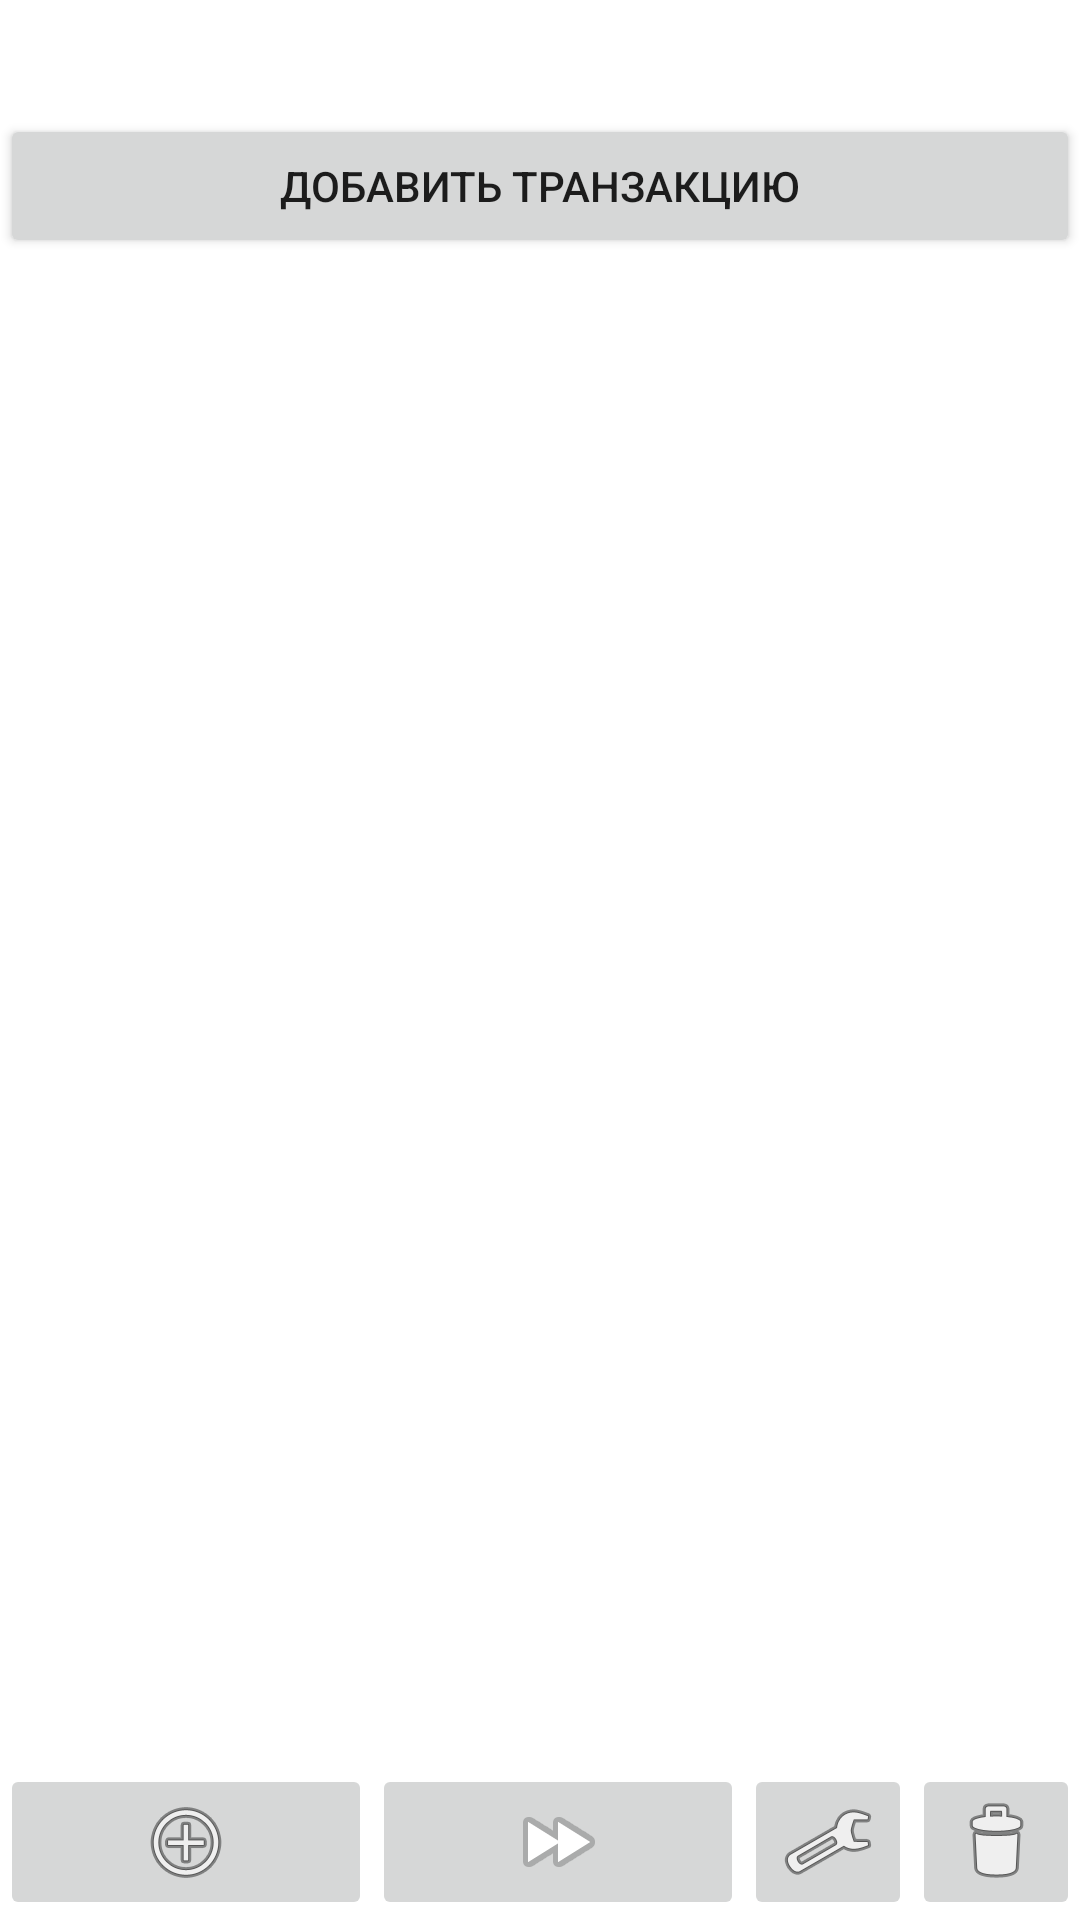

Icon click points for this 1080x1920 phone screenshot, format point (x, y):
add: point (186, 1842)
delete: point (996, 1842)
preferences: point (828, 1842)
